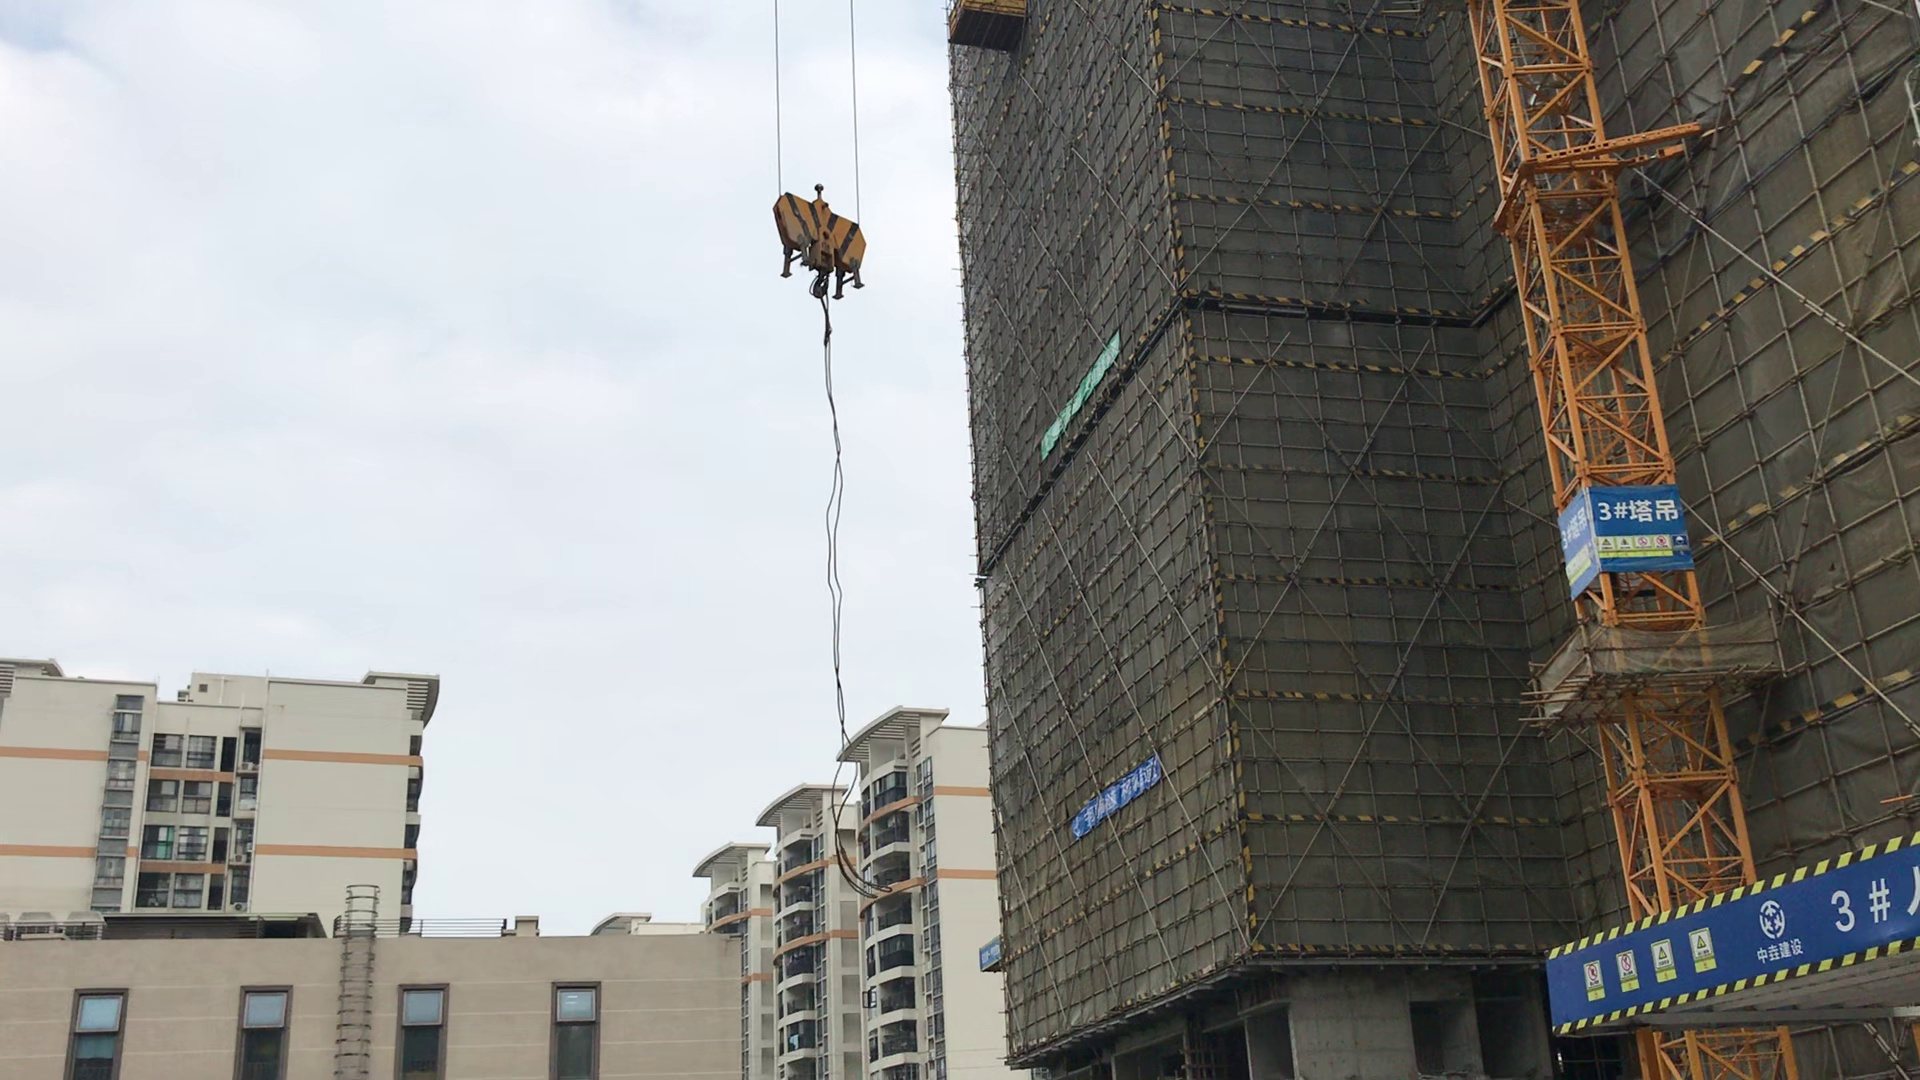hook: (775, 183, 870, 303)
slogan: (1036, 334, 1120, 460), (1581, 930, 1712, 1000), (1071, 756, 1162, 837), (1593, 529, 1677, 560)
